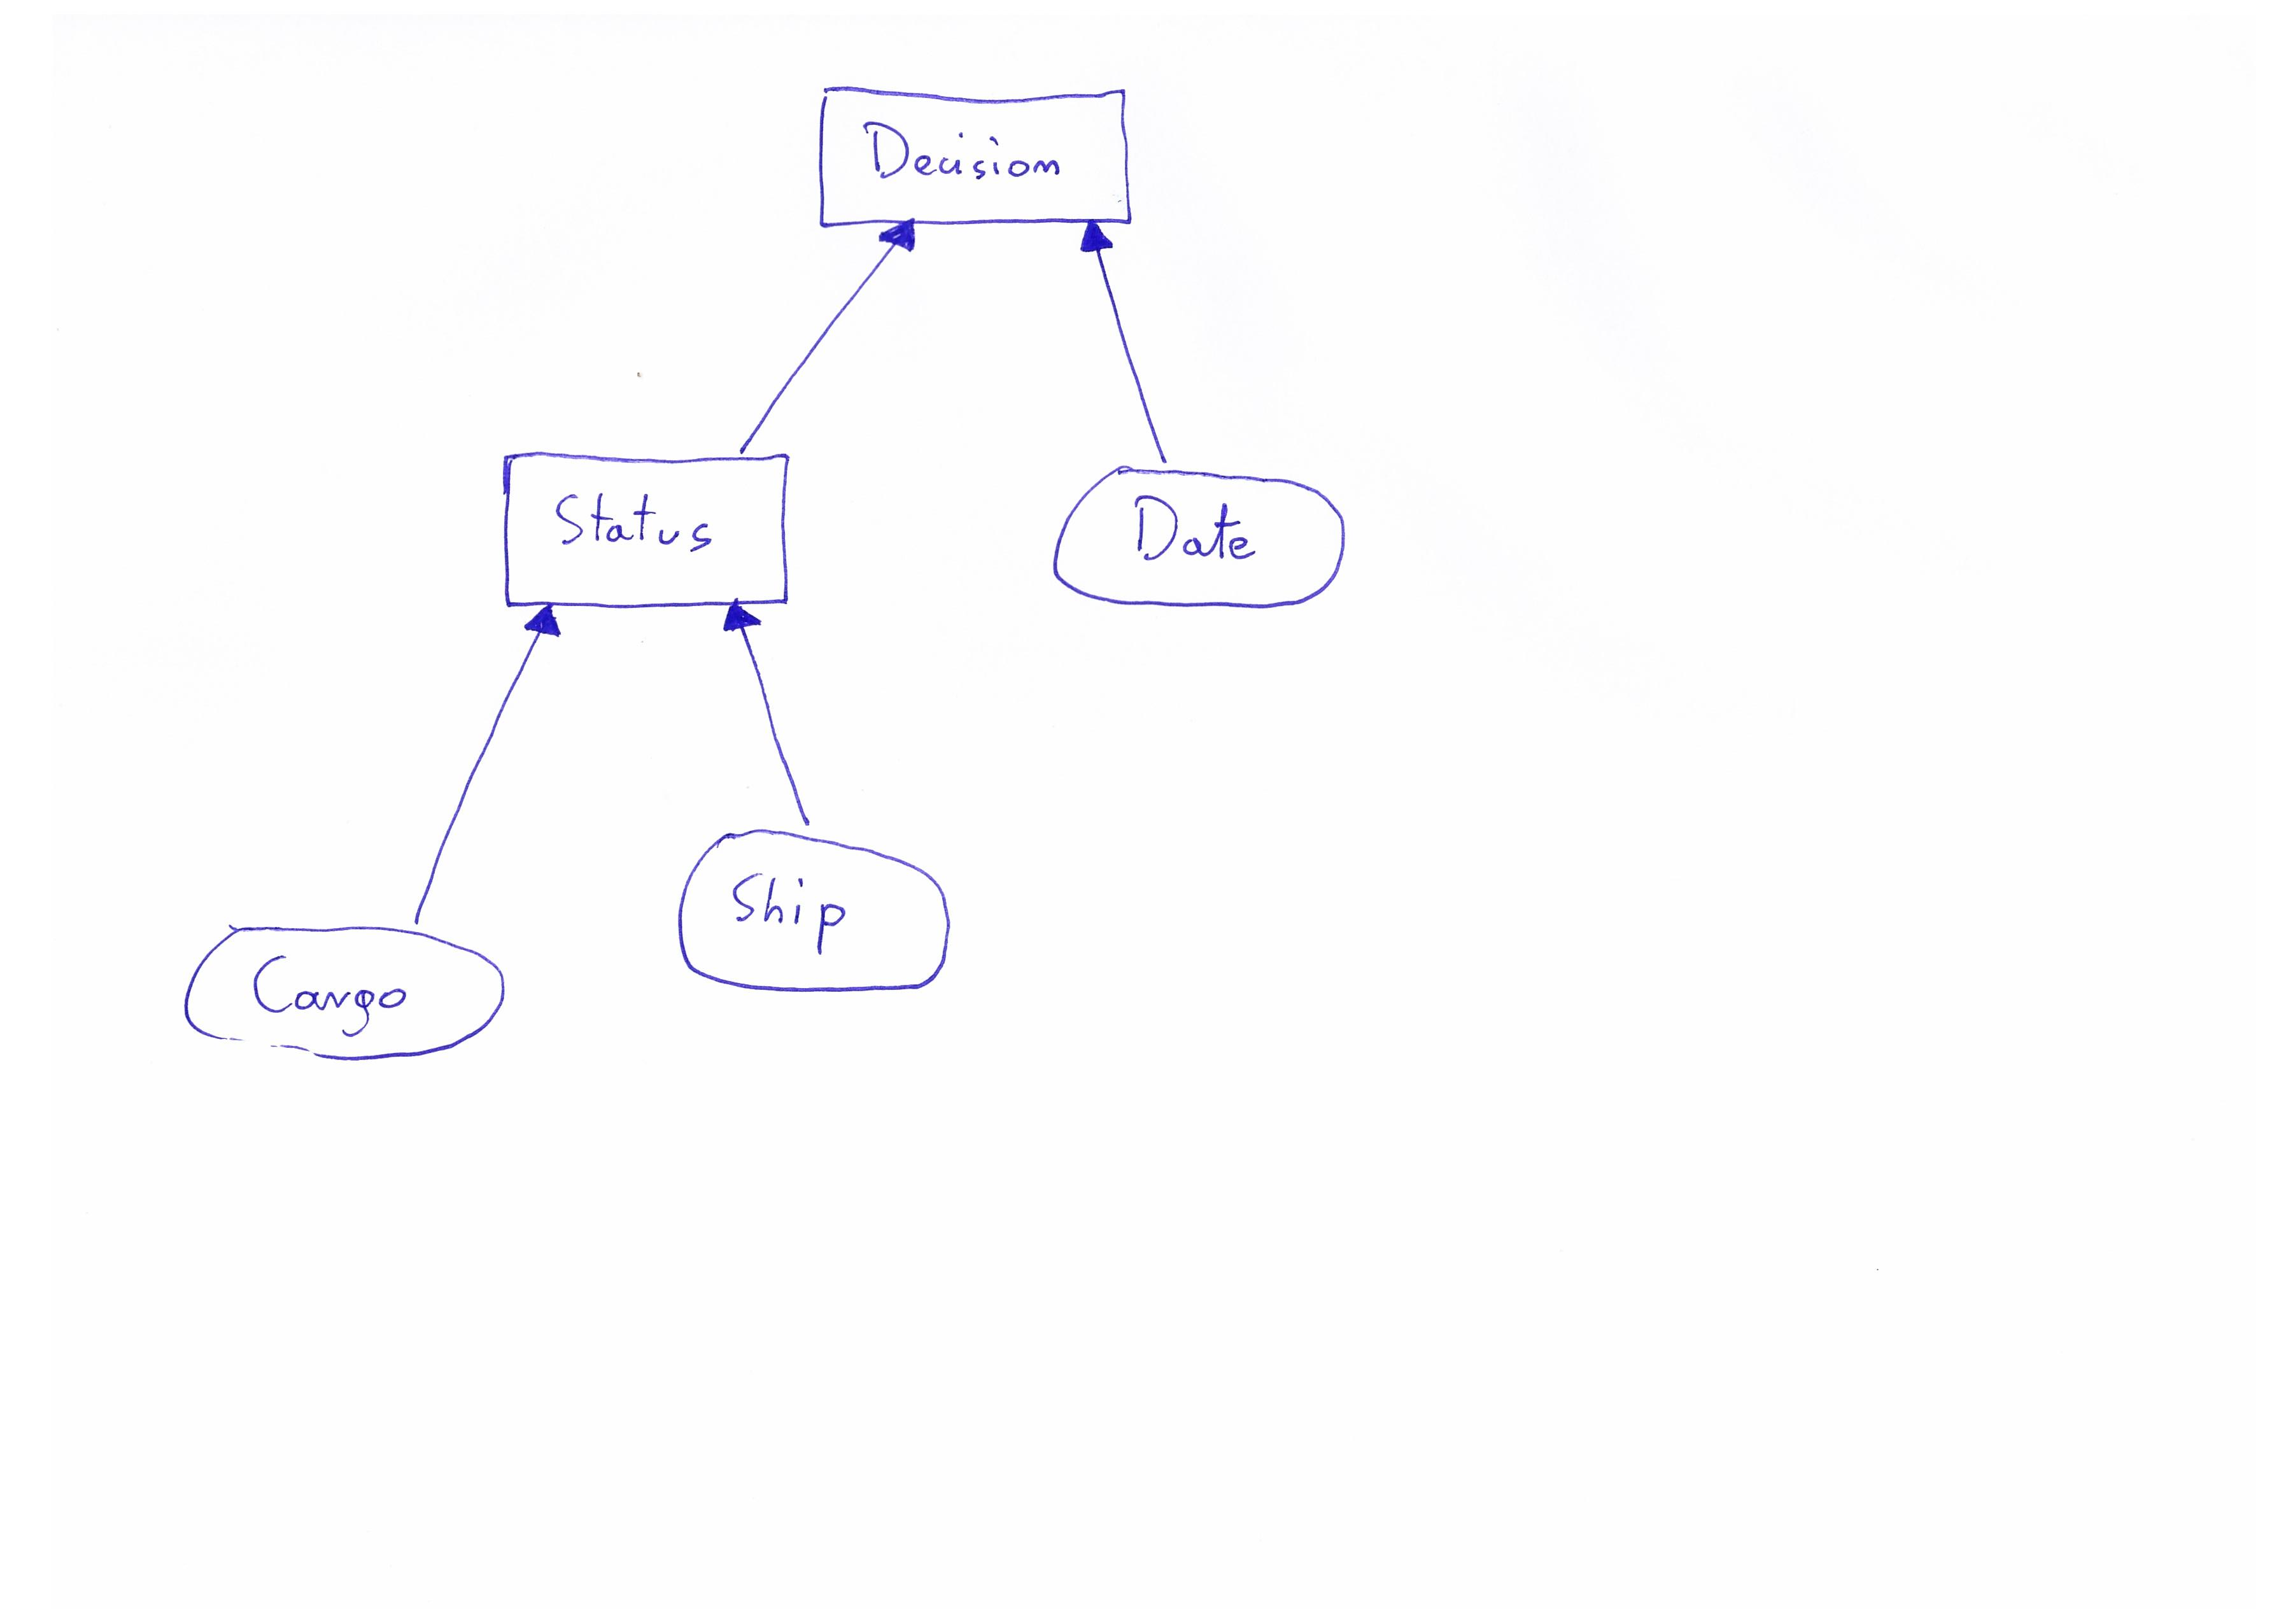arrow_information_requirement: (395, 606, 571, 930), (733, 214, 928, 455), (1061, 216, 1188, 464), (710, 598, 829, 830)
node_decision: (499, 448, 796, 606), (807, 83, 1130, 227)
node_input_data: (167, 910, 520, 1076), (668, 828, 975, 1004), (1046, 460, 1357, 613)
text: (857, 107, 1079, 197), (241, 942, 420, 1042), (546, 478, 736, 566), (724, 859, 863, 965), (1121, 487, 1274, 578)
